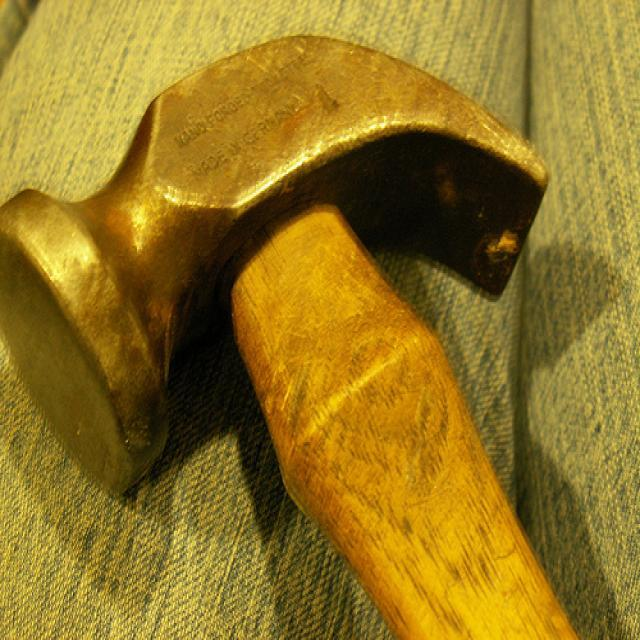hammer: (0, 12, 599, 640)
